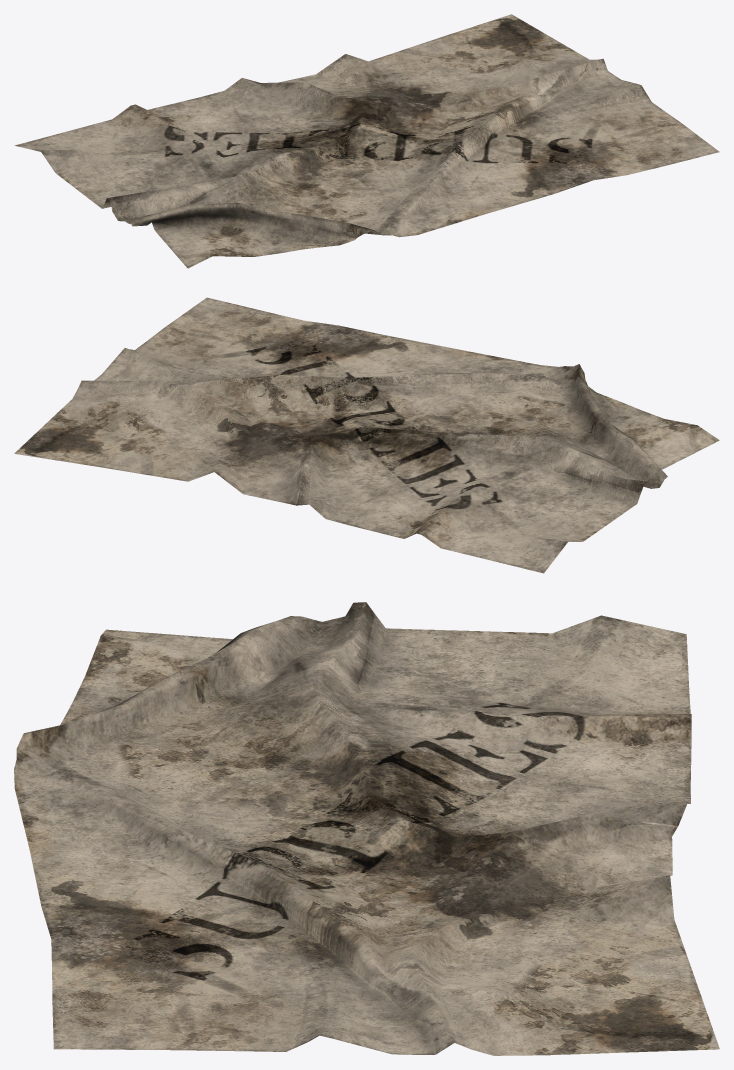
The model's file is blanket_diy.dae.
The picture shows the model from 3 angles, top to bottom: view 1: azimuth 30°, elevation 25°; view 2: azimuth 150°, elevation 25°; view 3: azimuth 270°, elevation 25°; orthographic projection. The views are drawn at different scales.
Parts seen in each view (by area): view 1: lp; view 2: lp; view 3: lp.
Part boxes in pixels (x1=…): lp: x1=14, y1=14, x2=719, y2=268; lp: x1=14, y1=297, x2=719, y2=573; lp: x1=14, y1=602, x2=719, y2=1055.
Size of the model in its own units: 174 by 8.36 by 121.
